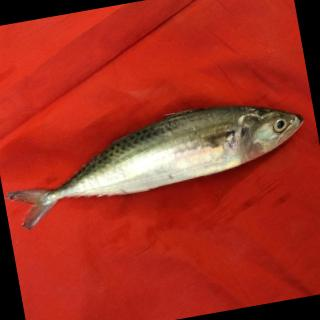Ikan: (1, 69, 320, 243)
